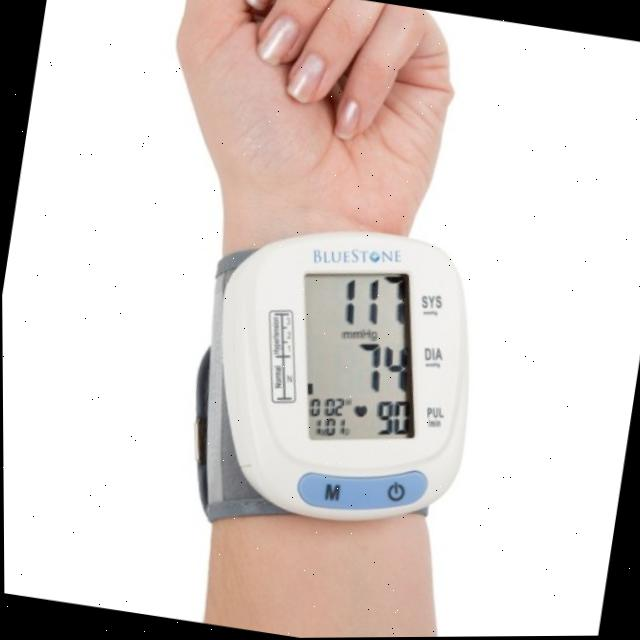dia: (350, 341, 414, 399)
pul: (375, 397, 418, 442)
ssd: (303, 271, 415, 446)
sys: (338, 274, 410, 333)
